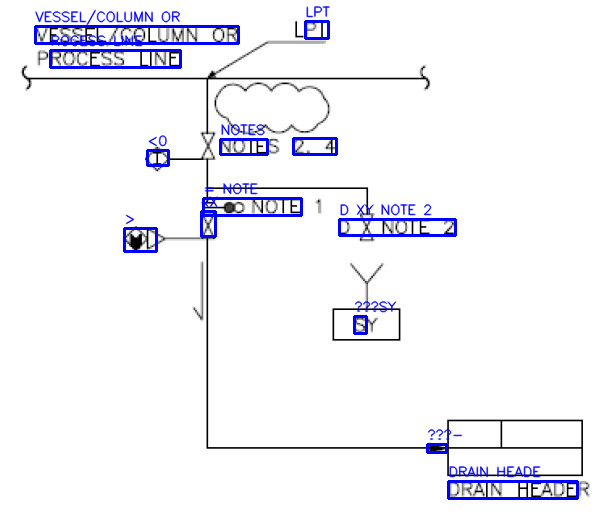Outro: (327, 303, 406, 345), (143, 144, 171, 173)
Válvula: (199, 210, 220, 243), (198, 128, 217, 162)
